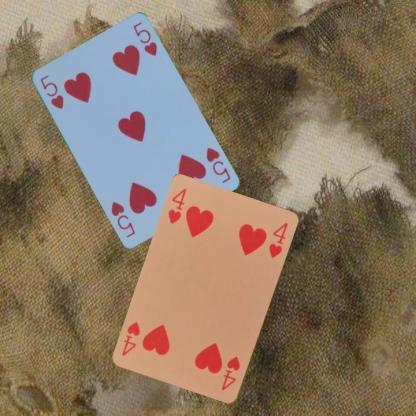4h: (219, 354, 242, 392), (166, 186, 188, 225)
5h: (203, 144, 232, 184), (37, 72, 65, 110)
